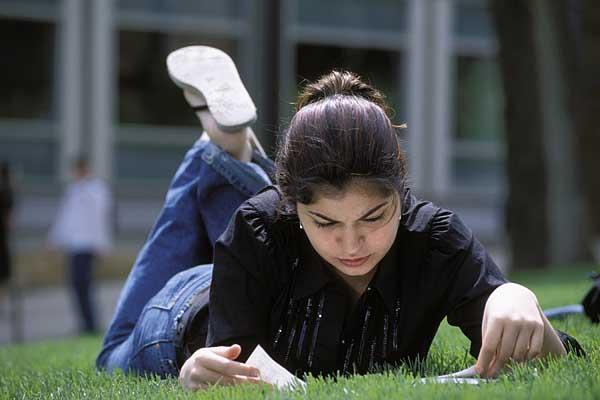person: (98, 43, 569, 387)
